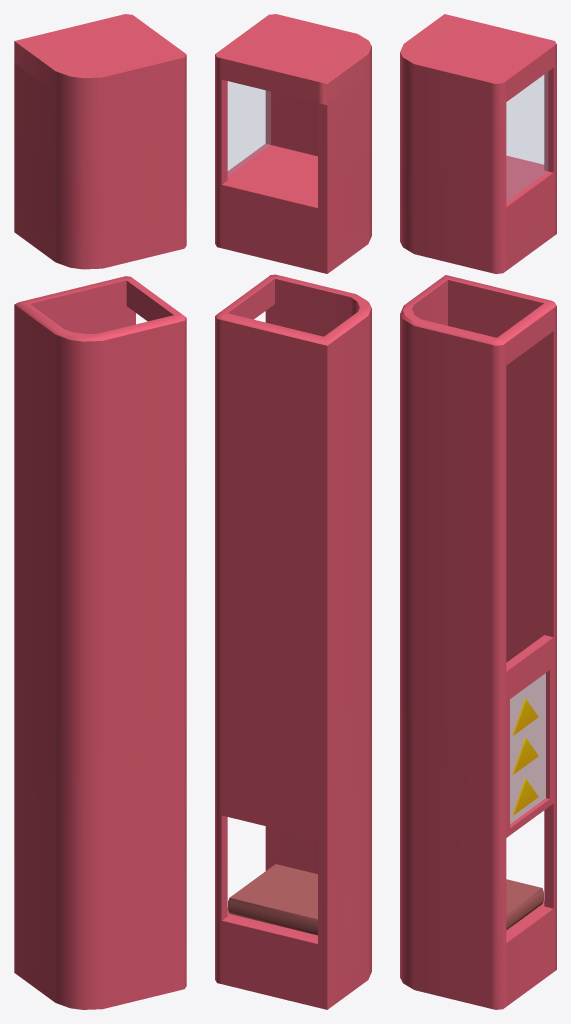
Rendered from Thang may food.fbx.
The picture shows the model from 3 angles, left to right: view 1: azimuth 30°, elevation 25°; view 2: azimuth 150°, elevation 25°; view 3: azimuth 330°, elevation 25°; orthographic projection.
Visible parts, largest first — view 1: Tm_food_1, Tm_food_2; view 2: Tm_food_1, Tm_food_2, Tm_food_3; view 3: Tm_food_1, Tm_food_2, Tm_food_3.
Boxes of the visible parts, box(x1,y1,x2,y2) form: Tm_food_1: box(14, 276, 186, 1009); Tm_food_2: box(14, 14, 186, 269); Tm_food_1: box(215, 274, 371, 1009); Tm_food_2: box(215, 14, 371, 273); Tm_food_3: box(228, 864, 317, 935); Tm_food_1: box(400, 275, 556, 1009); Tm_food_2: box(400, 14, 556, 273); Tm_food_3: box(506, 879, 543, 930).
Size of the model in its own units: 167 by 1283 by 148.
